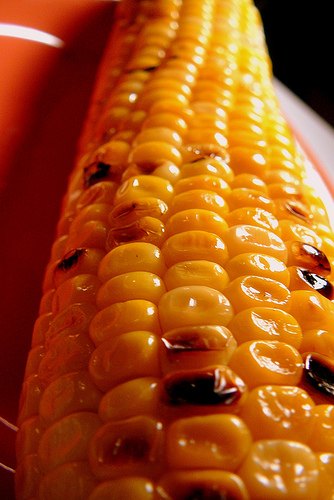corn: (12, 1, 332, 498)
